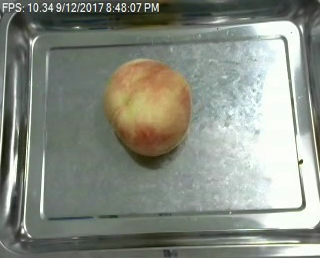Peach: (102, 57, 192, 156)
